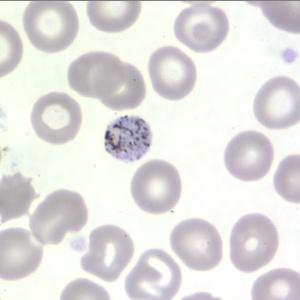Infected: (102, 114, 153, 162)
Uninfected: (29, 187, 89, 245), (79, 226, 136, 282), (232, 212, 280, 274), (23, 0, 80, 52), (30, 90, 83, 145), (90, 61, 148, 111), (67, 50, 126, 98), (148, 46, 199, 101), (132, 160, 183, 215), (125, 251, 182, 300), (172, 217, 222, 271), (174, 6, 229, 54), (0, 225, 47, 281), (254, 75, 300, 130), (225, 131, 274, 182), (2, 171, 38, 224), (86, 0, 141, 32), (251, 266, 300, 300), (276, 153, 300, 203)
